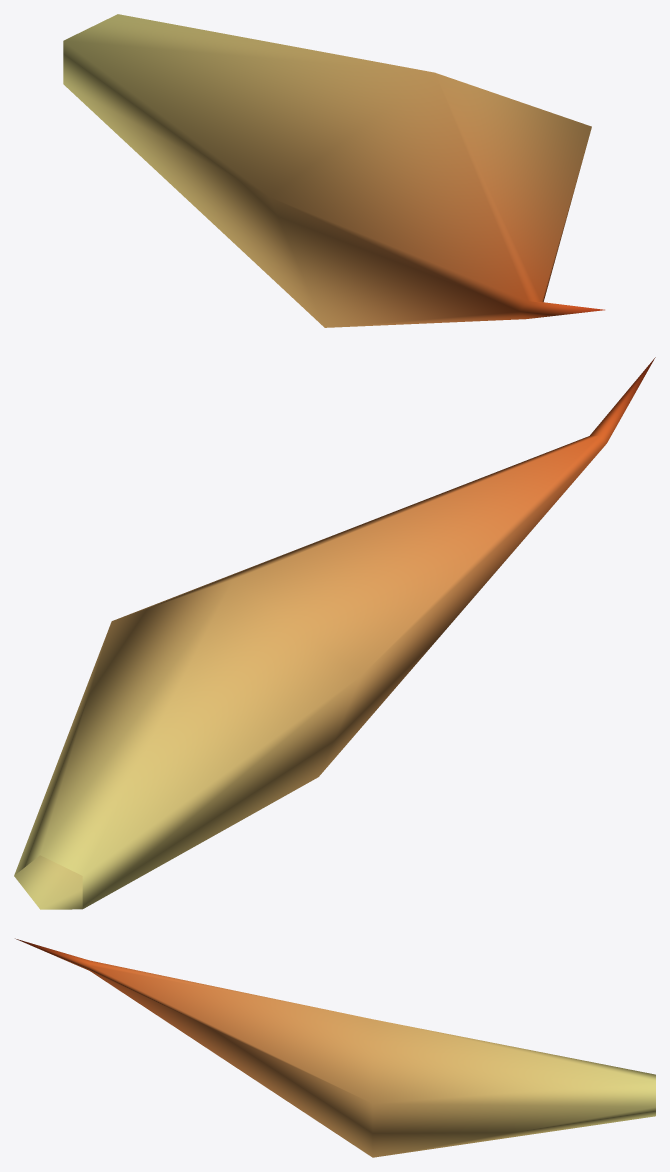
Rendered from flame.glb.
The picture shows the model from 3 angles, top to bottom: view 1: azimuth 30°, elevation 25°; view 2: azimuth 150°, elevation 25°; view 3: azimuth 270°, elevation 25°; orthographic projection. The views are drawn at different scales.
Visible parts, largest first — view 1: FlameTongues.001; view 2: FlameTongues.001; view 3: FlameTongues.001.
Part boxes in pixels (x1,y1,x2,y2): FlameTongues.001: (63, 14, 604, 327); FlameTongues.001: (14, 357, 655, 909); FlameTongues.001: (15, 938, 655, 1157).
Size of the model in its own units: 0.5446 by 0.4447 by 1.7.
